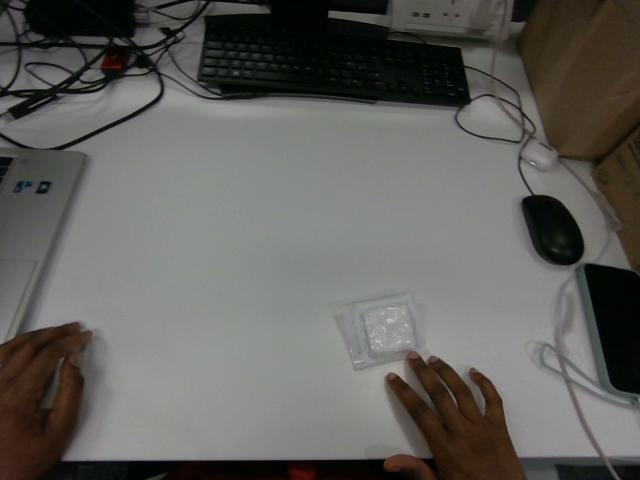gauze: (334, 292, 423, 369)
